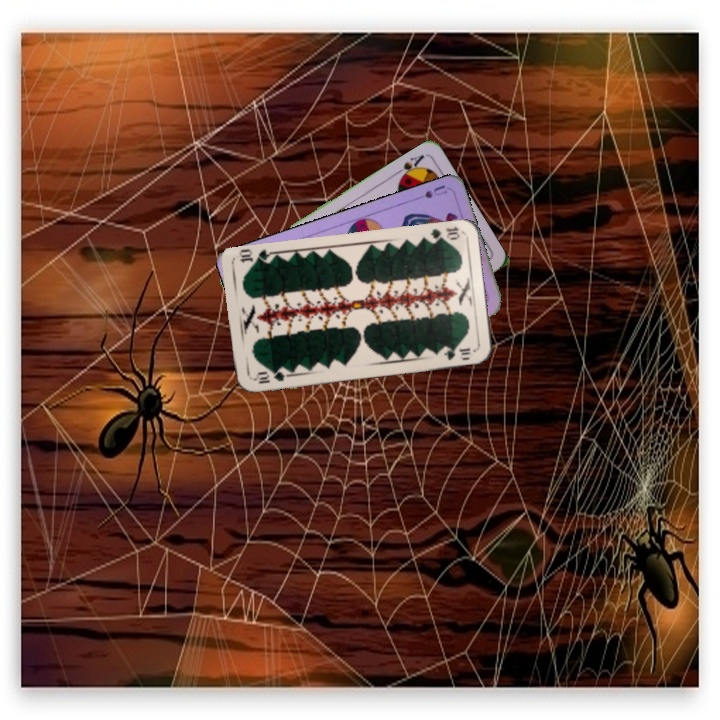G10: (250, 365, 290, 386), (426, 223, 462, 244)
SA: (391, 151, 427, 183)
SU: (409, 181, 450, 203)
